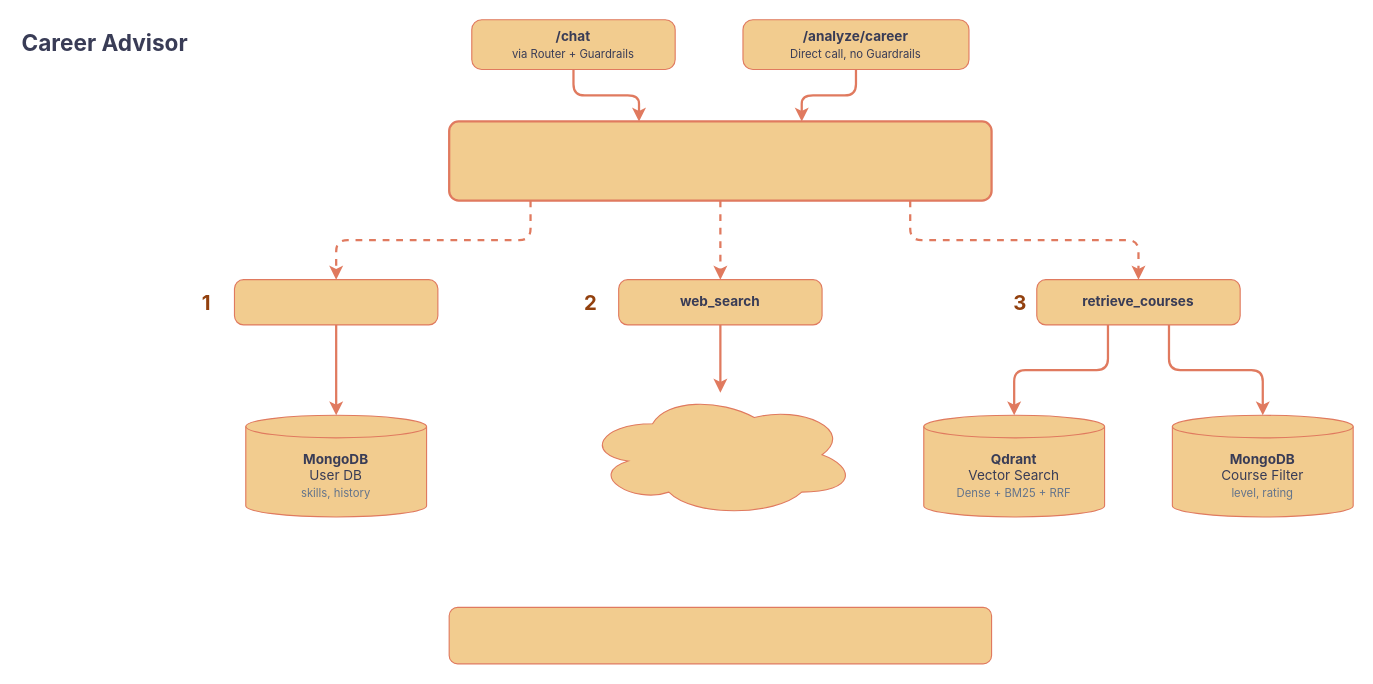
The diagram is 1373 pixels wide and 684 high, and some of its shapes have lost their labels. Here are the shapes that lost their labels. From the top down, the centre of each, then its label:
pixel 719 160: Career Advisor LLM: gpt-4o-mini "Analyze career paths and recommend courses"
pixel 335 302: get_user_profile
pixel 720 454: Internet OpenAI Responses API salary, trends, job market
pixel 720 635: Output (JSON) career_paths[] | salary_data | recommended_courses[]
